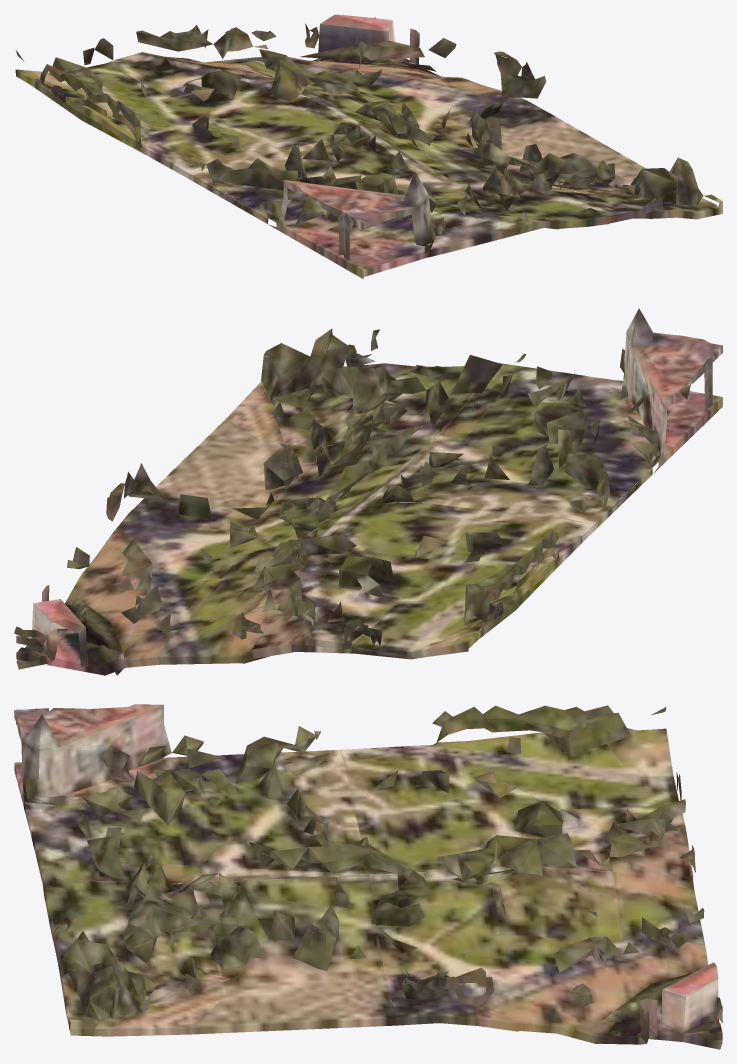
3 renders of one model, top to bottom at view 1: azimuth 30°, elevation 25°; view 2: azimuth 150°, elevation 25°; view 3: azimuth 270°, elevation 25°, orthographic. The views are drawn at different scales.
Parts seen in each view (by area): view 1: Mesh_0; view 2: Mesh_0; view 3: Mesh_0.
Part boxes in pixels (bbox=[...]): Mesh_0: bbox=[15, 14, 722, 279]; Mesh_0: bbox=[14, 308, 722, 675]; Mesh_0: bbox=[14, 704, 722, 1049].
Bounding box in the file's own units: 267 × 98.5 × 330.
2 materials, 2 textured.
